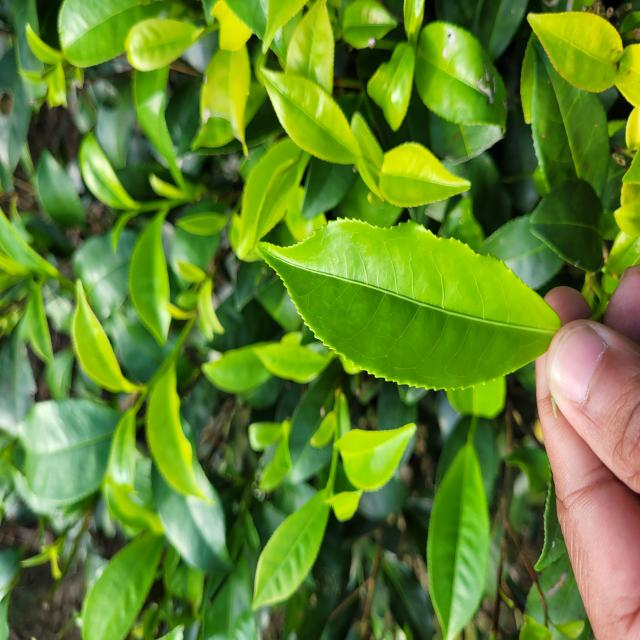Category B(2-4 days): (242, 199, 566, 424)
